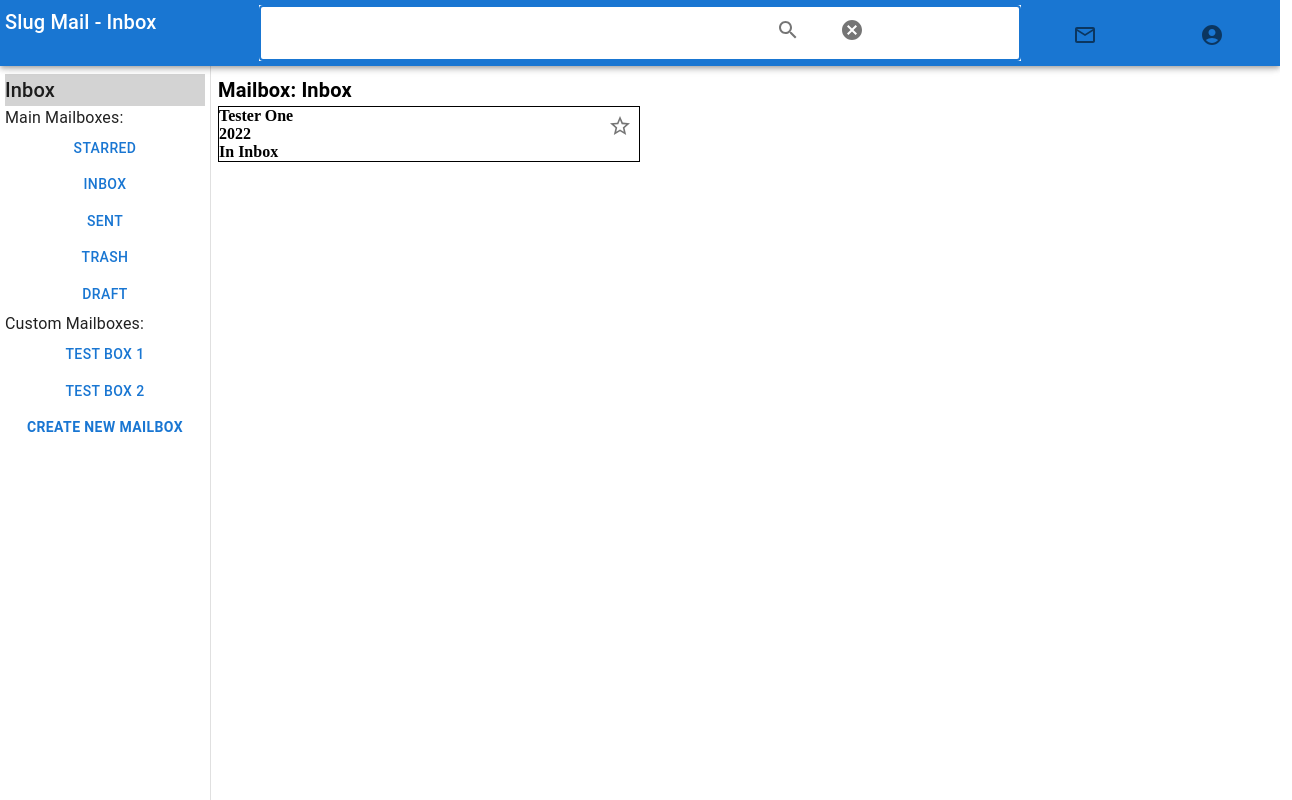
Test case: Look at test box 1
Expected: the text "Mailbox: Inbox" is shown, [218, 78, 352, 102]
What coordinates should you click on to do the following:
click the button "Test Box 1"
I would click on:
 (105, 354)
Its box is [5, 336, 205, 372].
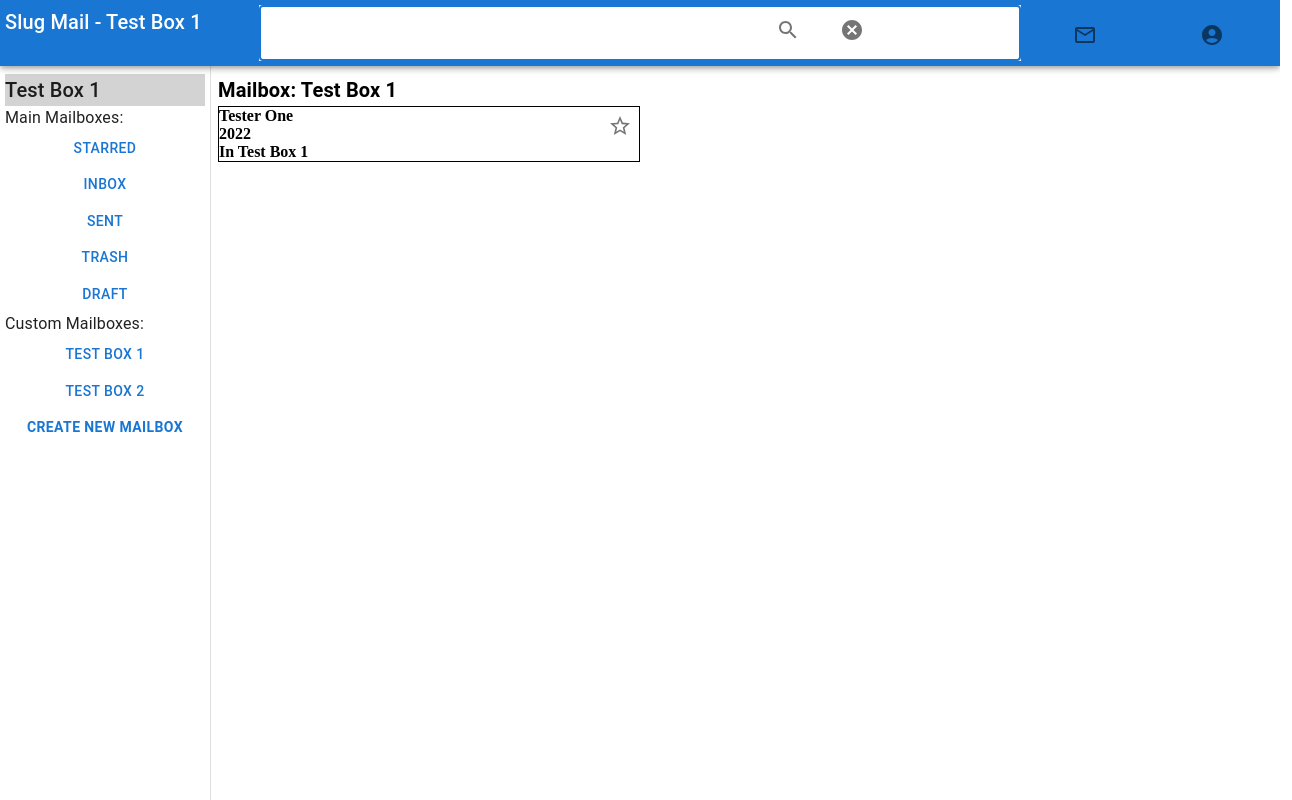
Expected: the text "Mailbox: Test Box 1" is shown, [218, 78, 397, 102]
Expected: the text "In Test Box 1" is shown, [219, 143, 308, 160]
